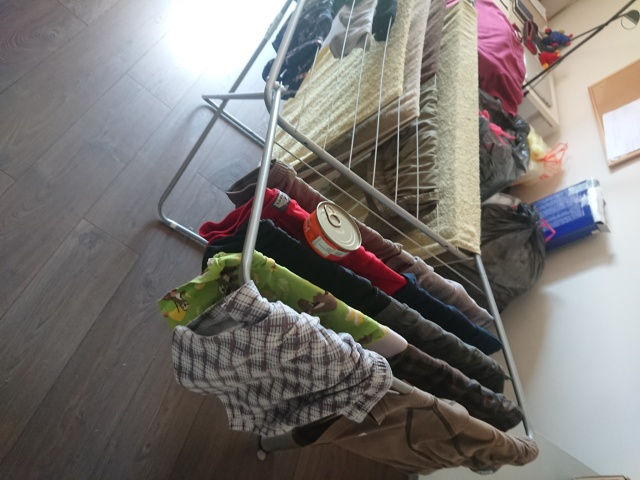Gavrilovic Pork Liver Pate 100g: (300, 198, 363, 263)
